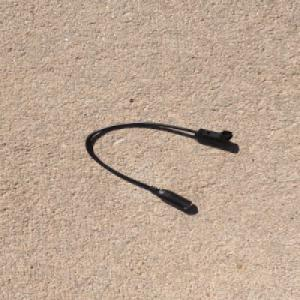Wire: (83, 120, 234, 210)
